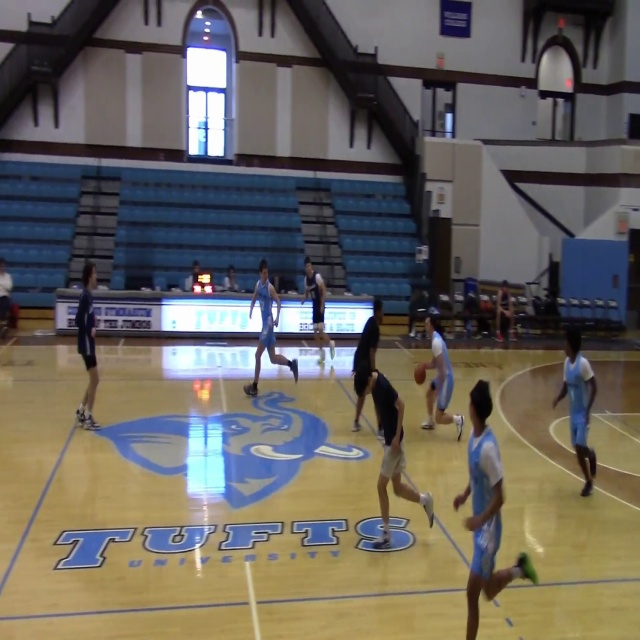Basketball: (413, 363, 426, 384)
